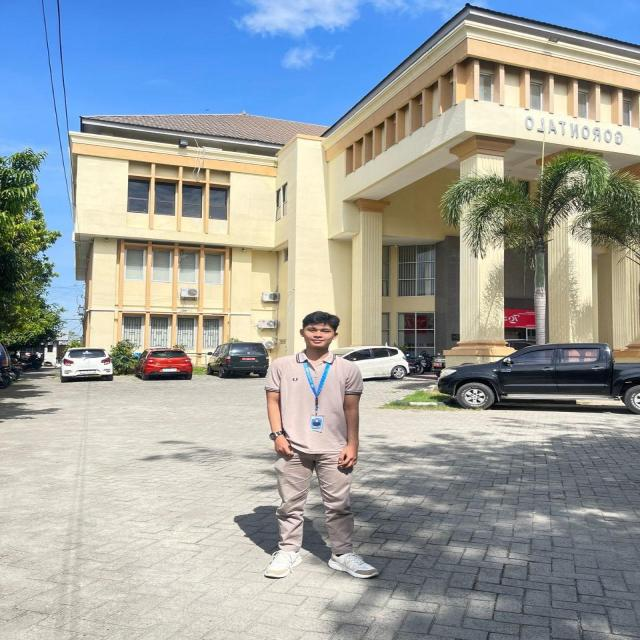nohelmet: (292, 310, 347, 352)
